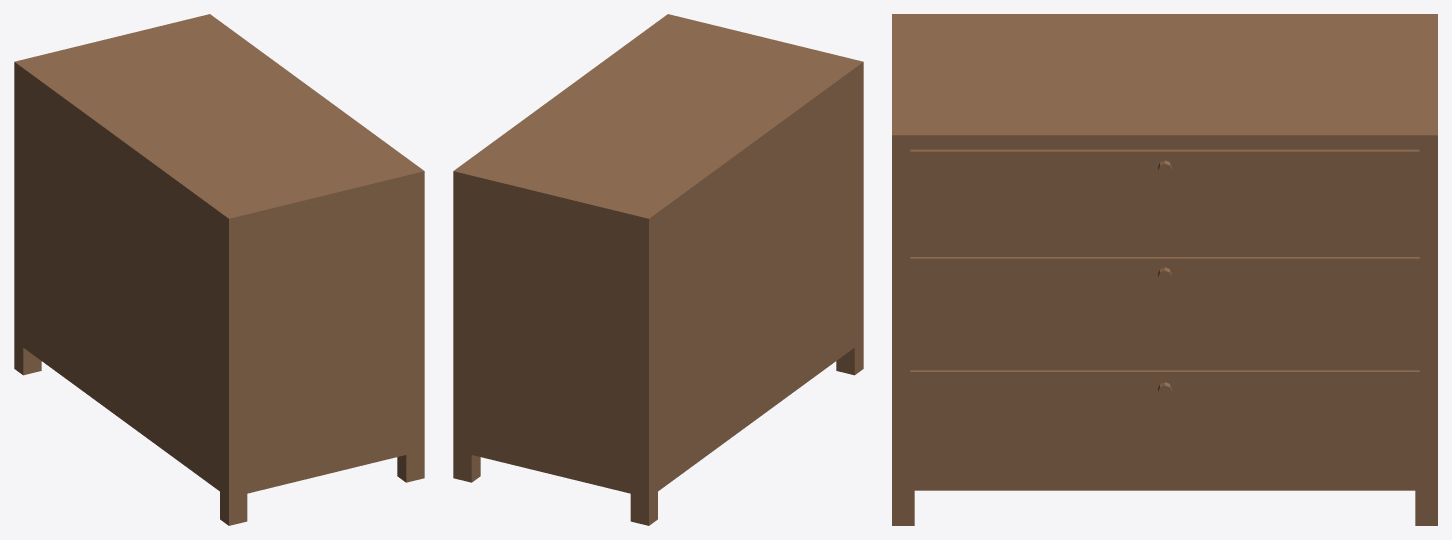
File: Dresser_1.fbx
The picture shows the model from 3 angles, left to right: view 1: azimuth 30°, elevation 25°; view 2: azimuth 150°, elevation 25°; view 3: azimuth 270°, elevation 25°; orthographic projection. The views are drawn at different scales.
Visible parts, largest first — view 1: pCube5; view 2: pCube5; view 3: pCube9, pCube5.
Part boxes in pixels (x1,y1,x2,y2): pCube5: (14,14,424,525); pCube5: (453,14,863,525); pCube9: (910,149,1419,462); pCube5: (892,14,1437,525).
Size of the model in its own units: 0.0104 by 0.015 by 0.019.
